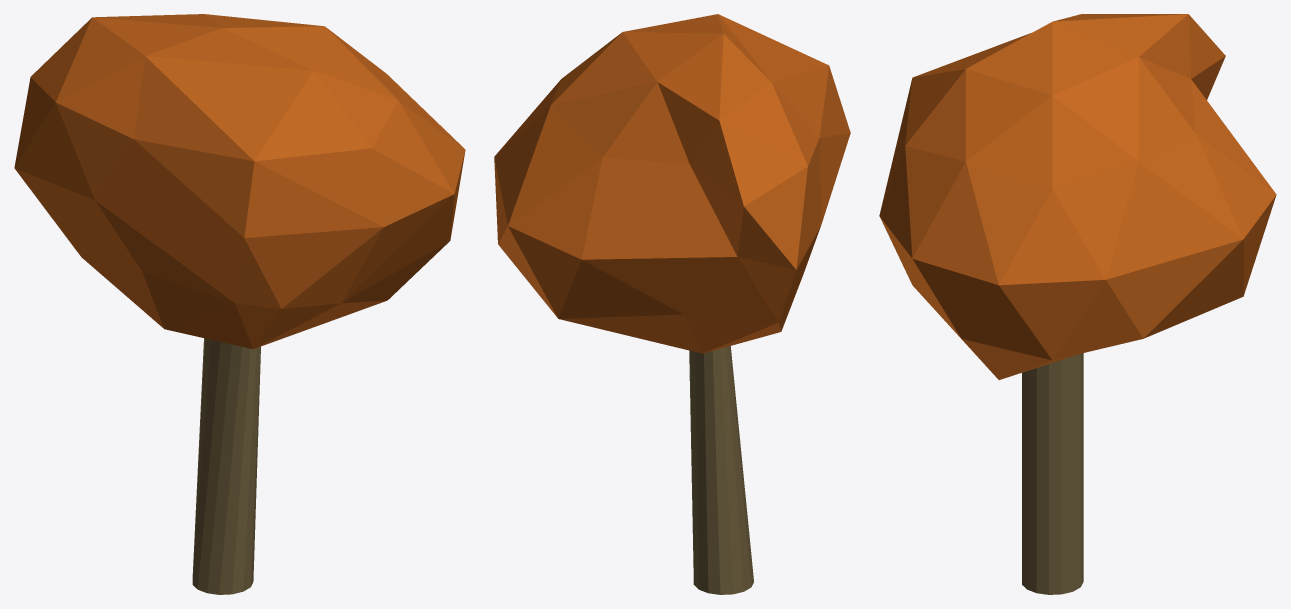
Rendered from orange_tree.fbx.
The picture shows the model from 3 angles, left to right: view 1: azimuth 30°, elevation 25°; view 2: azimuth 150°, elevation 25°; view 3: azimuth 270°, elevation 25°; orthographic projection. The views are drawn at different scales.
Visible parts, largest first — view 1: tree_2; view 2: tree_2; view 3: tree_2.
Boxes of the visible parts, <box> form: tree_2: <box>14,14,465,594</box>; tree_2: <box>494,14,850,594</box>; tree_2: <box>879,14,1276,594</box>.
Size of the model in its own units: 2760 by 4088 by 2627.
